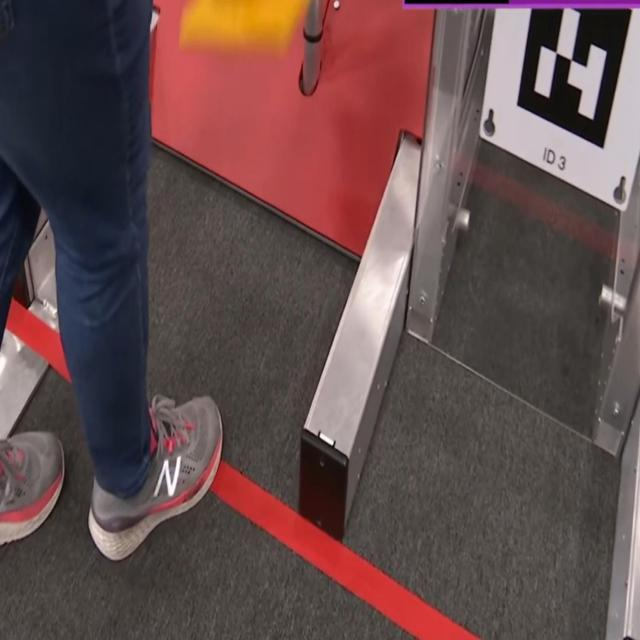frc_cone: (183, 0, 314, 71)
